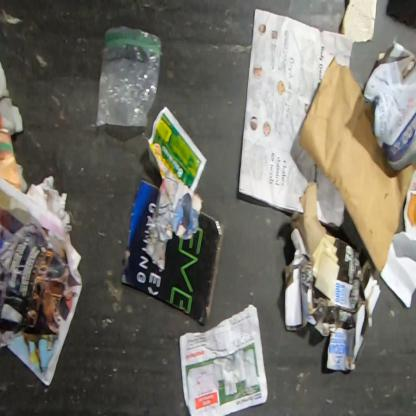cardboard: (296, 56, 416, 273), (121, 179, 225, 326), (284, 228, 382, 374)
soft_plastic: (94, 24, 163, 130)
